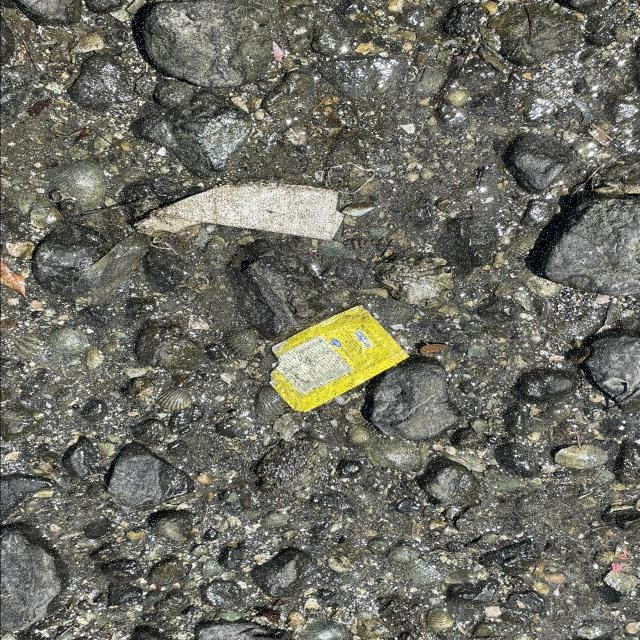plastic_waste: (269, 304, 410, 414)
